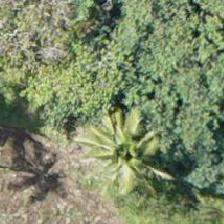coconut_tree: (95, 104, 185, 194)
